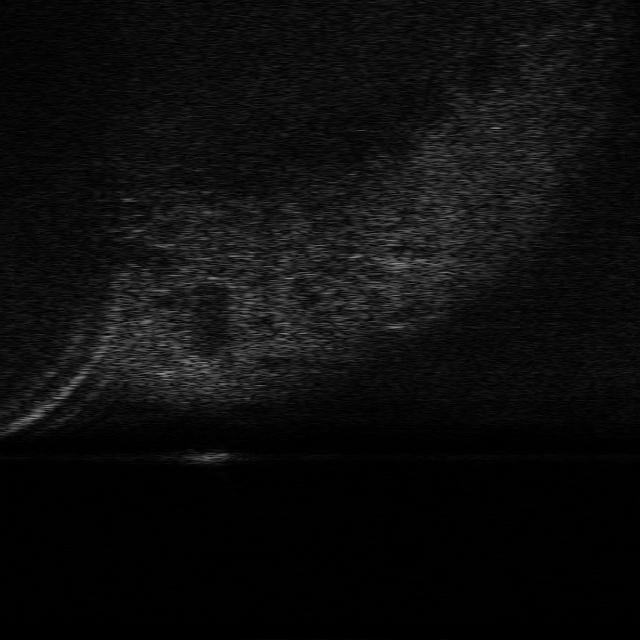cube: (176, 445, 239, 468)
